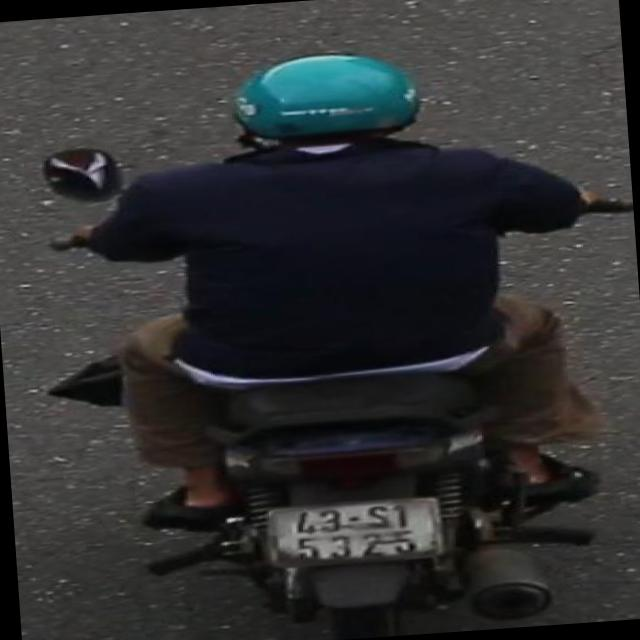LP: (252, 491, 458, 578)
helmet: (222, 39, 435, 178)
